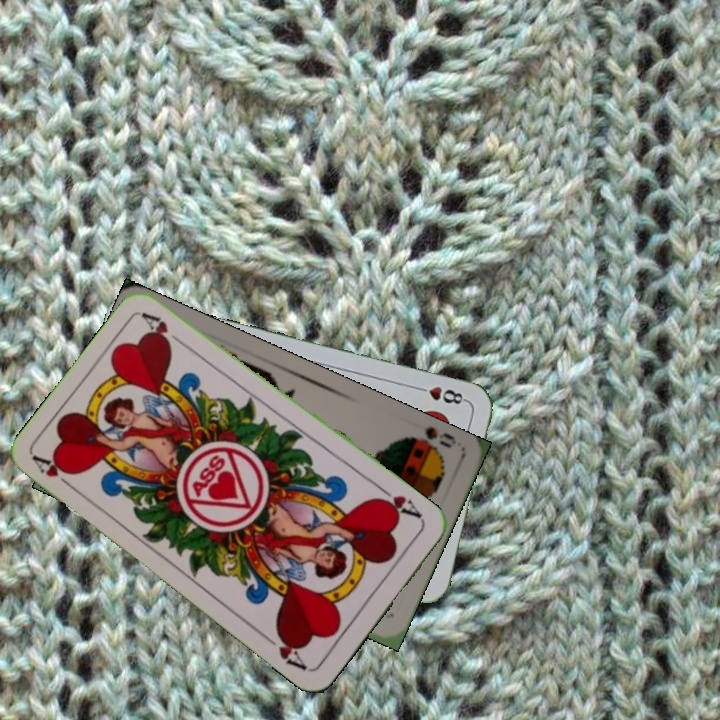H8: (411, 382, 470, 407)
HA: (369, 482, 426, 524), (30, 452, 81, 495)
SO: (400, 423, 459, 459)
